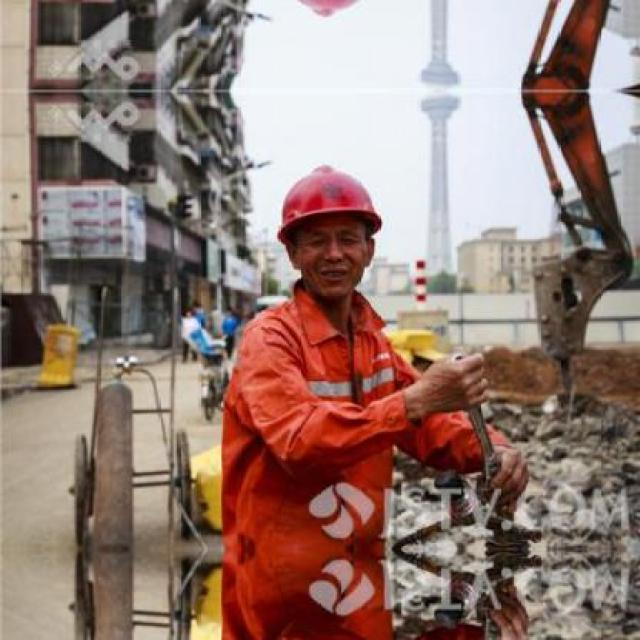helmet: (266, 156, 396, 299)
